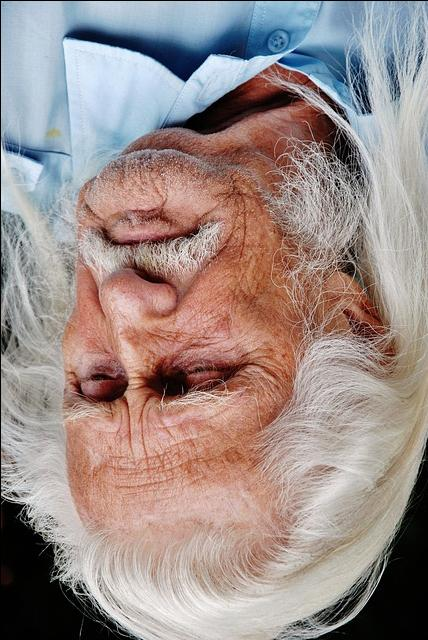Non_Gorille: (13, 10, 426, 625)
